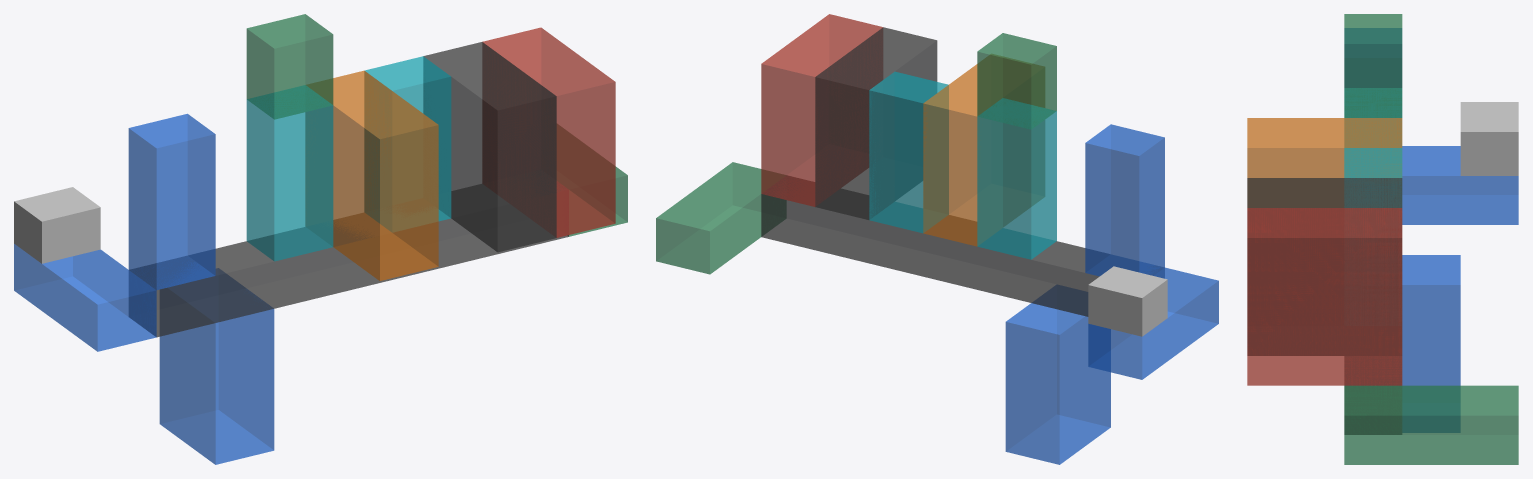
The model's file is slab_02.obj.
3 renders of one model, left to right at view 1: azimuth 30°, elevation 25°; view 2: azimuth 150°, elevation 25°; view 3: azimuth 270°, elevation 25°, orthographic. The views are drawn at different scales.
Visible parts, largest first — view 1: corridor_0, K_0_6, K_0_3, K_0_5, F_0_1, box_0_0, box_0_2, box_0_4, stair_W, room_0_2, entrance, stair_E; view 2: corridor_0, K_0_5, K_0_6, K_0_3, F_0_1, box_0_4, box_0_2, box_0_0, stair_E, stair_W, room_0_2, entrance; view 3: K_0_6, K_0_5, stair_E, K_0_3, F_0_1, stair_W, room_0_2, corridor_0, entrance, box_0_4, box_0_2, box_0_0.
Boxes of the visible parts, box(x1,y1,x2,y2) form: corridor_0: box(129, 182, 568, 337); K_0_6: box(482, 27, 615, 237); K_0_3: box(305, 70, 438, 280); K_0_5: box(423, 42, 556, 252); F_0_1: box(159, 268, 274, 464); box_0_0: box(128, 113, 215, 289); box_0_2: box(246, 85, 333, 261); box_0_4: box(364, 56, 451, 232); stair_W: box(14, 244, 156, 351); room_0_2: box(246, 14, 333, 119); entrance: box(14, 187, 100, 263); stair_E: box(557, 124, 627, 236); corridor_0: box(761, 175, 1164, 316); K_0_5: box(815, 27, 937, 219); K_0_6: box(761, 14, 882, 206); K_0_3: box(923, 54, 1044, 246); F_0_1: box(1005, 285, 1110, 464); box_0_4: box(869, 71, 948, 233); box_0_2: box(977, 98, 1056, 259); box_0_0: box(1085, 124, 1164, 276); stair_E: box(656, 162, 786, 274); stair_W: box(1088, 267, 1218, 379); room_0_2: box(977, 33, 1056, 129); entrance: box(1088, 266, 1167, 336); K_0_6: box(1247, 208, 1402, 385); K_0_5: box(1247, 178, 1402, 355); stair_E: box(1344, 385, 1518, 464); K_0_3: box(1247, 118, 1402, 207); F_0_1: box(1402, 255, 1460, 432); stair_W: box(1402, 146, 1518, 224); room_0_2: box(1344, 14, 1402, 117); corridor_0: box(1344, 356, 1401, 434); entrance: box(1460, 102, 1518, 175); box_0_4: box(1344, 148, 1402, 207); box_0_2: box(1344, 88, 1401, 147); box_0_0: box(1345, 28, 1401, 87).
Size of the model in its own units: 32.94 by 23.85 by 14.
